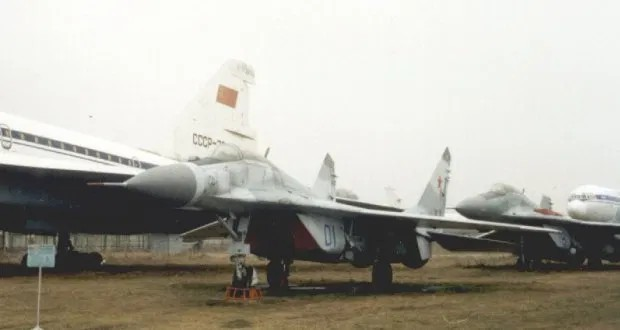Mig-29: (87, 128, 470, 301), (455, 165, 609, 271)
